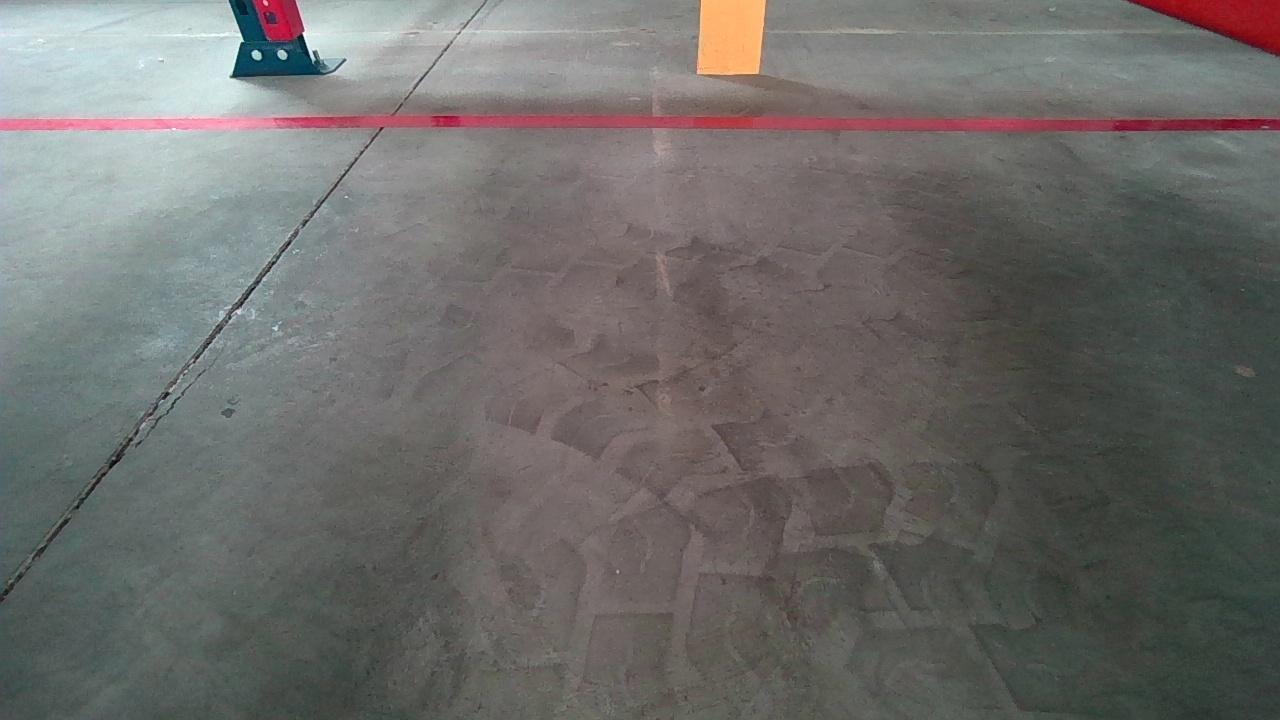orange_strip: (697, 0, 765, 74)
red_line: (0, 117, 1280, 130)
